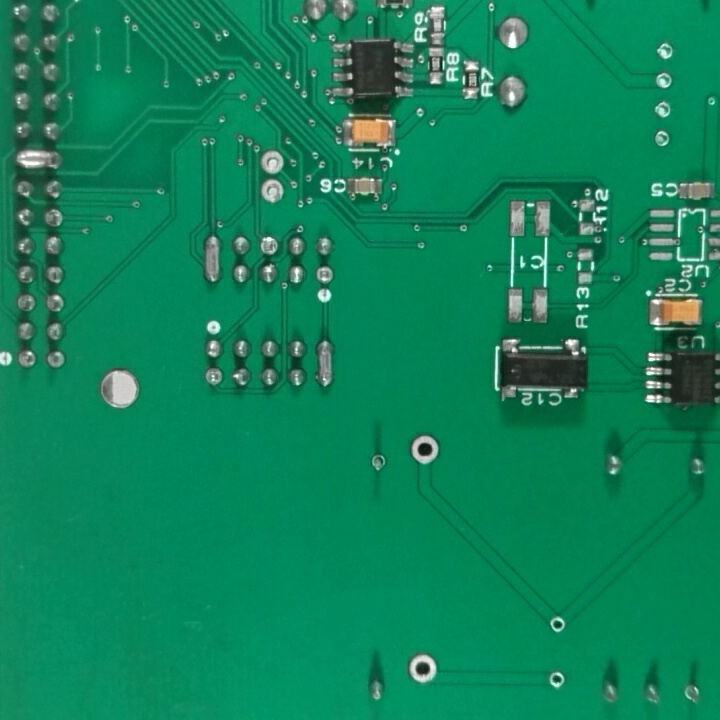F: (405, 651, 441, 689), (408, 432, 442, 469), (256, 147, 288, 177), (257, 179, 288, 206), (681, 680, 706, 705), (13, 292, 38, 315), (16, 349, 38, 375), (653, 40, 678, 62), (42, 207, 65, 229), (654, 71, 676, 94), (202, 366, 225, 388), (368, 450, 388, 475), (653, 100, 676, 121), (315, 264, 335, 288), (259, 235, 279, 258), (653, 129, 672, 151), (549, 614, 568, 636), (547, 670, 567, 689)
P: (11, 147, 65, 173), (199, 234, 225, 288), (314, 336, 337, 395)
